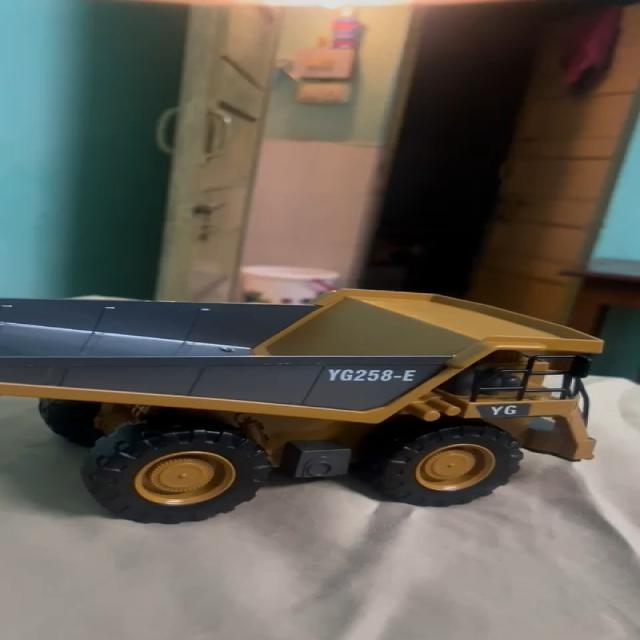dump_truck: (0, 283, 596, 519)
